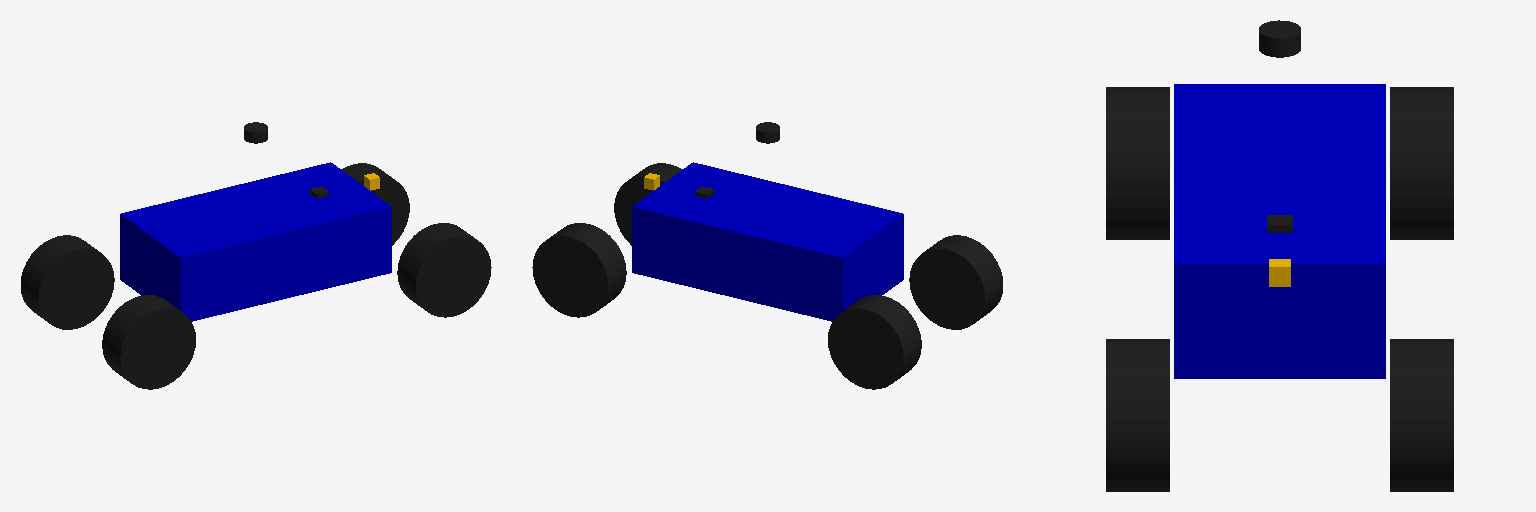
The robot description file, URDF, robot "teknofest_ika":
<?xml version="1.0"?>
<!--
  NOT (kapsam/sınırlama):
  Bu URDF, robot_state_publisher + RViz2 görselleştirme/TF amaçlıdır.
  Gazebo simülasyon plugin'leri (diff_drive, kamera/lidar/imu sensörleri)
  KASITLI OLARAK KALDIRILDI — proje artık Gazebo simülasyonu kullanmıyor
  (bkz. git log: "simulasyon dosyalari kaldirildi").

  ÖNEMLİ: Tekerlek geometrisi (4× continuous joint, diferansiyel iz/wheelbase)
  DİFERANSİYEL SÜRÜŞLÜ TEST ARACINI yansıtır — gerçek yarışma aracının
  Ackermann (otomobil tipi direksiyon) kinematiğini TEMSİL ETMEZ. Gerçek
  araç için ayrı bir Ackermann URDF'i (ön direksiyon mafsallı tekerlekler)
  henüz oluşturulmadı; wheelbase/track ölçüleri config/*.yaml ve
  ackermann_converter.py parametreleriyle çapraz kontrol edilmeden
  gerçek araç tasarımı için referans alınmamalıdır.
-->
<robot name="teknofest_ika">

  <material name="sari"><color rgba="1.0 0.76 0.03 1"/></material>
  <material name="siyah"><color rgba="0.15 0.15 0.15 1"/></material>
  <material name="blue"><color rgba="0.0 0.0 0.8 1"/></material>

  <link name="base_footprint"/>

  <joint name="base_joint" type="fixed">
    <parent link="base_footprint"/>
    <child link="base_link"/>
    <origin xyz="0 0 0.28" rpy="0 0 0"/>
    <!--
      Z=0.28: tekerlek yarıçapı (0.18) + zemin boşluğu (0.10)
      Böylece tekerlekler tam yere oturur.
    -->
  </joint>

  <link name="base_link">
    <visual>
      <origin xyz="0 0 0.05" rpy="0 0 0"/>
      <geometry>
        <box size="1.0 0.5 0.3"/>
      </geometry>
      <material name="blue"/>
    </visual>
    <collision>
      <origin xyz="0 0 0.05" rpy="0 0 0"/>
      <geometry>
        <box size="1.0 0.5 0.3"/>
      </geometry>
    </collision>
    <inertial>
      <mass value="70.0"/>
      <origin xyz="0 0 0" rpy="0 0 0"/>
      <inertia ixx="10.0" ixy="0" ixz="0" iyy="20.0" iyz="0" izz="30.0"/>
    </inertial>
  </link>

  <!-- ═══════════════════════════════════════════════
       SAĞ ÖN TEKERLEK
       X: +0.70 (öne doğru) — wheelbase=1.40m (2026-07-27 araçtan
                  ölçüldü), config/ekf.yaml, nav2_params.yaml
                  (minimum_turning_radius) ve ackermann_converter.py'deki
                  wheelbase parametresiyle TUTARLI tutulur; biri
                  değişirse diğerleri de değişmeli.
       Y: -0.335 (sağa doğru, negatif)
       Z: -0.10  (gövdenin altına iner, base_joint Z=0.28 ile birlikte net 0.18 → yere değer)
       Görsel: rpy="1.5708 0 0" → silindirin ekseni Y'ye yatırılır (dönme ekseni)
  ════════════════════════════════════════════════ -->
  <link name="sag_on_teker">
    <visual>
      <origin xyz="0 0 0" rpy="1.5708 0 0"/>
      <geometry>
        <cylinder length="0.15" radius="0.18"/>
      </geometry>
      <material name="siyah"/>
    </visual>
    <collision>
      <origin xyz="0 0 0" rpy="1.5708 0 0"/>
      <geometry>
        <cylinder length="0.15" radius="0.18"/>
      </geometry>
    </collision>
    <inertial>
      <mass value="7.5"/>
      <origin xyz="0 0 0" rpy="1.5708 0 0"/>
      <inertia ixx="0.0563" ixy="0" ixz="0" iyy="0.0563" iyz="0" izz="0.1013"/>
    </inertial>
  </link>
  <joint name="sag_on_joint" type="continuous">
    <parent link="base_link"/>
    <child link="sag_on_teker"/>
    <origin xyz="0.70 -0.335 -0.10" rpy="0 0 0"/>
    <axis xyz="0 -1 0"/>
    <dynamics damping="0.5" friction="0.5"/>
  </joint>

  <!-- ═══════════════════════════════════════════════
       SOL ÖN TEKERLEK
       X: +0.70 (sağ ön ile aynı — simetrik, wheelbase=1.40m)
       Y: +0.335 (sola doğru, pozitif)
       Görsel: sağ ön ile aynı — silindir simetrik olduğu için taraf ayrımı yok
  ════════════════════════════════════════════════ -->
  <link name="sol_on_teker">
    <visual>
      <origin xyz="0 0 0" rpy="1.5708 0 0"/>
      <geometry>
        <cylinder length="0.15" radius="0.18"/>
      </geometry>
      <material name="siyah"/>
    </visual>
    <collision>
      <origin xyz="0 0 0" rpy="1.5708 0 0"/>
      <geometry>
        <cylinder length="0.15" radius="0.18"/>
      </geometry>
    </collision>
    <inertial>
      <mass value="7.5"/>
      <origin xyz="0 0 0" rpy="1.5708 0 0"/>
      <inertia ixx="0.0563" ixy="0" ixz="0" iyy="0.0563" iyz="0" izz="0.1013"/>
    </inertial>
  </link>
  <joint name="sol_on_joint" type="continuous">
    <parent link="base_link"/>
    <child link="sol_on_teker"/>
    <origin xyz="0.70 0.335 -0.10" rpy="0 0 0"/>
    <axis xyz="0 -1 0"/>
    <dynamics damping="0.5" friction="0.5"/>
  </joint>

  <!-- ═══════════════════════════════════════════════
       SOL ARKA TEKERLEK
       X: -0.70 (arkaya doğru, wheelbase=1.40m — bkz. ön teker notu)
       Y: +0.335 (sol taraf — ön ile aynı genişlik)
  ════════════════════════════════════════════════ -->
  <link name="sol_arka_teker">
    <visual>
      <origin xyz="0 0 0" rpy="1.5708 0 0"/>
      <geometry>
        <cylinder length="0.15" radius="0.18"/>
      </geometry>
      <material name="siyah"/>
    </visual>
    <collision>
      <origin xyz="0 0 0" rpy="1.5708 0 0"/>
      <geometry>
        <cylinder length="0.15" radius="0.18"/>
      </geometry>
    </collision>
    <inertial>
      <mass value="7.5"/>
      <origin xyz="0 0 0" rpy="1.5708 0 0"/>
      <inertia ixx="0.0563" ixy="0" ixz="0" iyy="0.0563" iyz="0" izz="0.1013"/>
    </inertial>
  </link>
  <joint name="sol_arka_joint" type="continuous">
    <parent link="base_link"/>
    <child link="sol_arka_teker"/>
    <origin xyz="-0.70 0.335 -0.10" rpy="0 0 0"/>
    <axis xyz="0 -1 0"/>
    <dynamics damping="0.5" friction="0.5"/>
  </joint>

  <!-- ═══════════════════════════════════════════════
       SAĞ ARKA TEKERLEK
       X: -0.70 (sol arka ile aynı — simetrik)
       Y: -0.335 (sağ taraf)
  ════════════════════════════════════════════════ -->
  <link name="sag_arka_teker">
    <visual>
      <origin xyz="0 0 0" rpy="1.5708 0 0"/>
      <geometry>
        <cylinder length="0.15" radius="0.18"/>
      </geometry>
      <material name="siyah"/>
    </visual>
    <collision>
      <origin xyz="0 0 0" rpy="1.5708 0 0"/>
      <geometry>
        <cylinder length="0.15" radius="0.18"/>
      </geometry>
    </collision>
    <inertial>
      <mass value="7.5"/>
      <origin xyz="0 0 0" rpy="1.5708 0 0"/>
      <inertia ixx="0.0563" ixy="0" ixz="0" iyy="0.0563" iyz="0" izz="0.1013"/>
    </inertial>
  </link>
  <joint name="sag_arka_joint" type="continuous">
    <parent link="base_link"/>
    <child link="sag_arka_teker"/>
    <origin xyz="-0.70 -0.335 -0.10" rpy="0 0 0"/>
    <axis xyz="0 -1 0"/>
    <dynamics damping="0.5" friction="0.5"/>
  </joint>

<!-- ═══════════════════════════════════════════════
       KAMERA LİNKİ — base_link'e bağlı, aracın önünde
  ════════════════════════════════════════════════ -->
  <link name="camera_link">
    <visual>
      <origin xyz="0 0 0" rpy="0 0 0"/>
      <geometry><box size="0.05 0.05 0.05"/></geometry>
      <material name="sari"/>
    </visual>
    <inertial>
      <mass value="0.1"/>
      <inertia ixx="0.001" ixy="0" ixz="0" iyy="0.001" iyz="0" izz="0.001"/>
    </inertial>
  </link>
  <joint name="kamera_joint" type="fixed">
    <parent link="base_link"/>
    <child link="camera_link"/>
    <origin xyz="0.55 0 0.20" rpy="0 0 0"/>
  </joint>

  <!-- ═══════════════════════════════════════════════
       LİDAR LİNKİ — aracın üstünde
  ════════════════════════════════════════════════ -->
  <!-- Link adı sürücünün yayınladığı frame_id ile birebir aynı olmalı:
       lydia_ortam/tmini_pro.yaml → frame_id: laser_frame. Farklı isimde
       tanımlanırsa /scan hiçbir TF'e oturmaz ve costmap boş kalır. -->
  <link name="laser_frame">
    <visual>
      <origin xyz="0 0 0" rpy="0 0 0"/>
      <geometry><cylinder length="0.05" radius="0.05"/></geometry>
      <material name="siyah"/>
    </visual>
    <inertial>
      <mass value="0.1"/>
      <inertia ixx="0.001" ixy="0" ixz="0" iyy="0.001" iyz="0" izz="0.001"/>
    </inertial>
  </link>
  <!-- Yaw 1.6284 rad = 93.3°: LiDAR gövdeye dönük monte edilmiş, açı sahada
       huniyle çift yönlü kalibre edildi. huni_reaktif aynı düzeltmeyi ham
       /scan üzerinde aci_offset_deg ile yapar; Nav2 costmap ise yalnız bu
       dönüşümü görür. Yükseklik zeminden tarama düzlemine ölçüldü (0.55 m) —
       ama bu eklemin ebeveyni base_link ve base_joint gövdeyi zeminden
       0.28 m yukarı alıyor, yani buradaki 0.55 zemin yüksekliğini 0.83 m
       gösteriyor. X de 0 yazıyor, LiDAR ise burna yakın monte (ön aks
       merkezi x=+0.70). Jetson çalışma kopyası "0.80 0 0.265" diyor;
       mezürle doğrulanınca burası ve lydia_startup.sh'teki statik
       yayıncı birlikte güncellenecek.
       NOT: bu dönüşümü şu an boot betiğindeki statik yayıncı basıyor. Bir gün
       robot_state_publisher yığına eklenirse ikisi aynı TF'i yayınlar —
       o zaman statik laser yayıncısı kaldırılmalı. -->
  <joint name="lidar_joint" type="fixed">
    <parent link="base_link"/>
    <child link="laser_frame"/>
    <origin xyz="0.0 0 0.55" rpy="0 0 1.6284"/>
  </joint>

  <!-- ═══════════════════════════════════════════════
       IMU LİNKİ — gövdenin merkezinde
  ════════════════════════════════════════════════ -->
  <link name="imu_link">
    <inertial>
      <mass value="0.01"/>
      <inertia ixx="0.0001" ixy="0" ixz="0" iyy="0.0001" iyz="0" izz="0.0001"/>
    </inertial>
  </link>
  <joint name="imu_joint" type="fixed">
    <parent link="base_link"/>
    <child link="imu_link"/>
    <origin xyz="0 0 0" rpy="0 0 0"/>
  </joint>

  <!-- ═══════════════════════════════════════════════
       OS30A 3D LiDAR — aracın önünde
       Montaj pozisyonu PLACEHOLDER — araçtan ölçülecek
  ════════════════════════════════════════════════ -->
  <link name="os30a_link">
    <visual>
      <origin xyz="0 0 0" rpy="0 0 0"/>
      <geometry><box size="0.06 0.06 0.04"/></geometry>
      <material name="siyah"/>
    </visual>
    <inertial>
      <mass value="0.15"/>
      <inertia ixx="0.001" ixy="0" ixz="0" iyy="0.001" iyz="0" izz="0.001"/>
    </inertial>
  </link>
  <joint name="os30a_joint" type="fixed">
    <parent link="base_link"/>
    <child link="os30a_link"/>
    <!-- PLACEHOLDER: x=araç öne mesafesi, z=yerden yükseklik -->
    <origin xyz="0.30 0 0.20" rpy="0 0 0"/>
  </joint>

</robot>

--- Render facts (derived) ---
The picture shows the robot from 3 angles, left to right: view 1: azimuth 30°, elevation 25°; view 2: azimuth 150°, elevation 25°; view 3: azimuth 270°, elevation 25°; orthographic projection.
Robot: teknofest_ika — 10 links, 9 joints (4 continuous, 5 fixed); root link base_footprint; default pose: every joint at zero.
Visible links, largest first — view 1: base_link, sag_arka_teker, sag_on_teker, sol_arka_teker, sol_on_teker; view 2: base_link, sol_arka_teker, sol_on_teker, sag_arka_teker, sag_on_teker; view 3: base_link, sag_on_teker, sol_on_teker, sol_arka_teker, sag_arka_teker, laser_frame, camera_link.
Link boxes in pixels (bbox=[...]): base_link: bbox=[120, 162, 391, 321]; sag_arka_teker: bbox=[102, 295, 195, 389]; sag_on_teker: bbox=[397, 223, 491, 317]; sol_arka_teker: bbox=[21, 235, 114, 329]; sol_on_teker: bbox=[341, 163, 409, 245]; base_link: bbox=[632, 162, 903, 321]; sol_arka_teker: bbox=[828, 295, 921, 389]; sol_on_teker: bbox=[532, 223, 626, 317]; sag_arka_teker: bbox=[909, 235, 1002, 329]; sag_on_teker: bbox=[614, 163, 682, 245]; base_link: bbox=[1174, 84, 1385, 378]; sag_on_teker: bbox=[1106, 339, 1169, 491]; sol_on_teker: bbox=[1390, 339, 1453, 491]; sol_arka_teker: bbox=[1390, 87, 1453, 239]; sag_arka_teker: bbox=[1106, 87, 1169, 239]; laser_frame: bbox=[1259, 20, 1300, 57]; camera_link: bbox=[1269, 259, 1290, 286].
Size in the robot's own frame: 1.76 by 0.82 by 0.855 metres.
Geometry: primitives only (box / cylinder / sphere), no mesh files.
